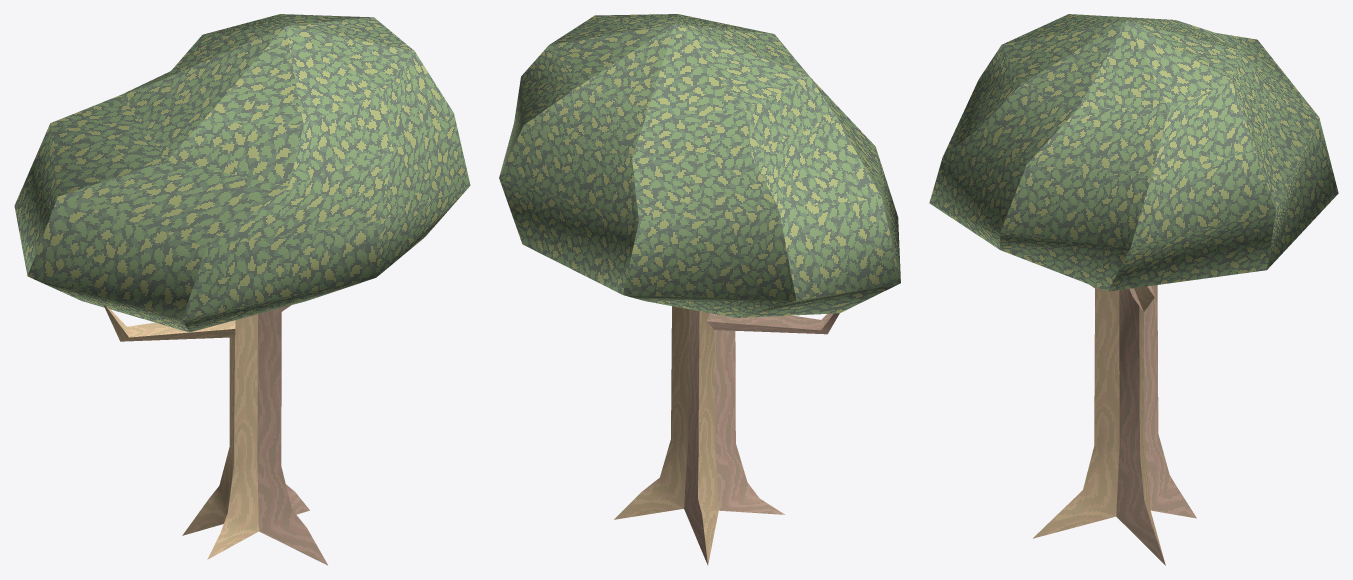
Rendered from 02fc_Medium_Tree.glb.
The picture shows the model from 3 angles, left to right: view 1: azimuth 30°, elevation 25°; view 2: azimuth 150°, elevation 25°; view 3: azimuth 270°, elevation 25°; orthographic projection. The views are drawn at different scales.
Visible parts, largest first — view 1: part_0; view 2: part_0; view 3: part_0.
Part boxes in pixels (x1=…): part_0: x1=14, y1=14, x2=470, y2=565; part_0: x1=499, y1=14, x2=900, y2=565; part_0: x1=929, y1=14, x2=1338, y2=565.
Bounding box in the file's own units: 3.36 × 4.06 × 2.83.
Materials: 1 (1 with a texture image).
